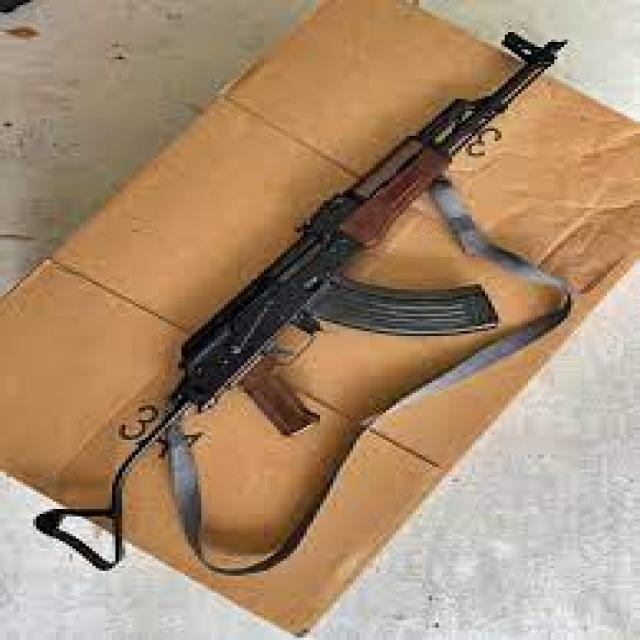weapon: (34, 31, 572, 573)
